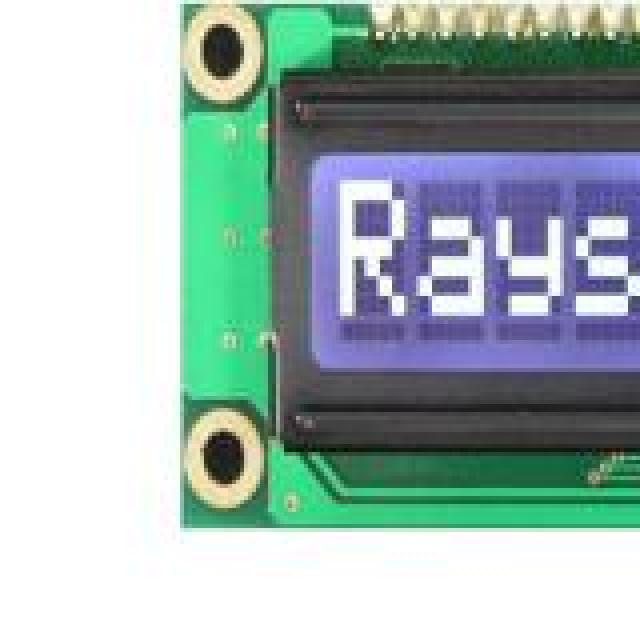display: (256, 52, 640, 448)
